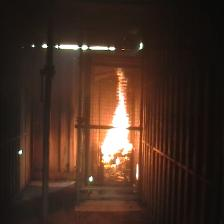fire: (106, 69, 133, 161)
